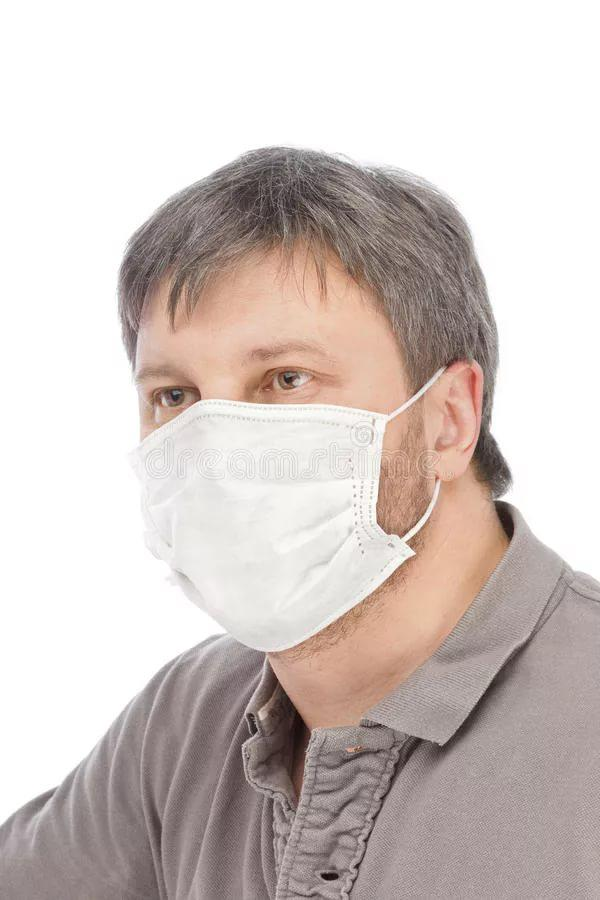mask: (139, 284, 417, 643)
